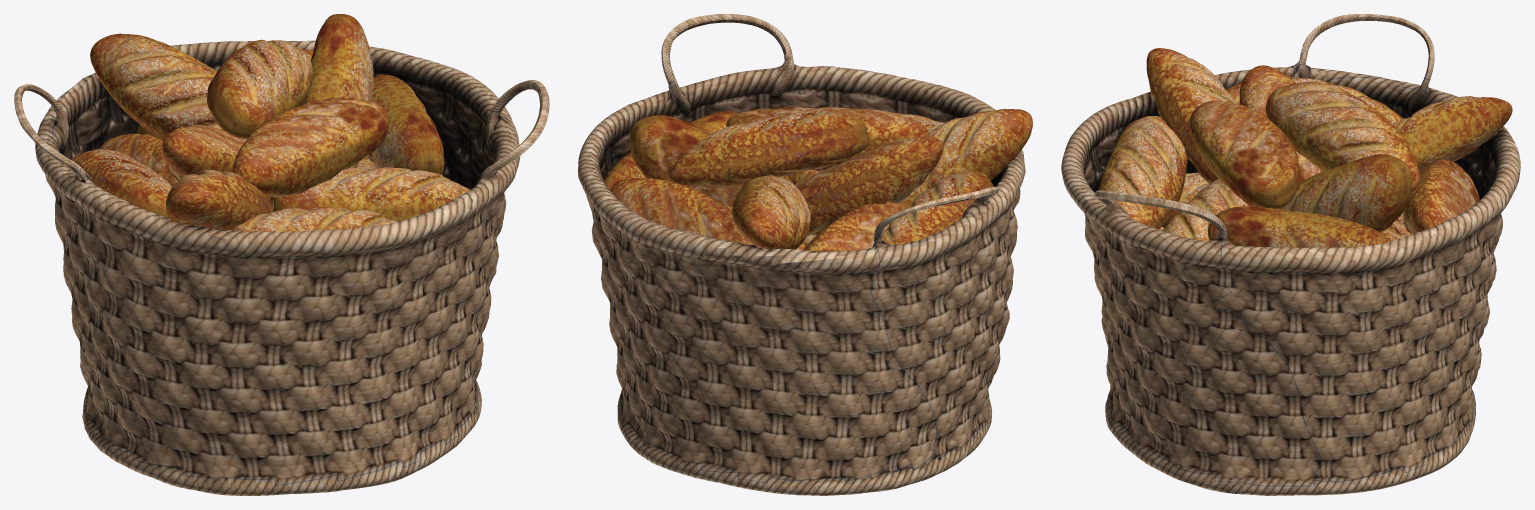
3 views of the same model, side by side, from view 1: azimuth 30°, elevation 25°; view 2: azimuth 150°, elevation 25°; view 3: azimuth 270°, elevation 25° (orthographic). The views are drawn at different scales.
Visible parts, largest first — view 1: Object_3, Object_4, Object_5; view 2: Object_3, Object_4, Object_5; view 3: Object_3, Object_4, Object_5.
Part boxes in pixels (x1=…): Object_3: x1=14, y1=40, x2=549, y2=495; Object_4: x1=71, y1=33, x2=470, y2=231; Object_5: x1=99, y1=14, x2=450, y2=230; Object_3: x1=578, y1=14, x2=1025, y2=495; Object_4: x1=604, y1=110, x2=993, y2=249; Object_5: x1=629, y1=107, x2=1032, y2=251; Object_3: x1=1061, y1=14, x2=1520, y2=495; Object_4: x1=1099, y1=65, x2=1512, y2=247; Object_5: x1=1146, y1=48, x2=1412, y2=240.
Size of the model in its own units: 49.5 by 37.85 by 48.05.
Materials: 2 (2 with a texture image).
